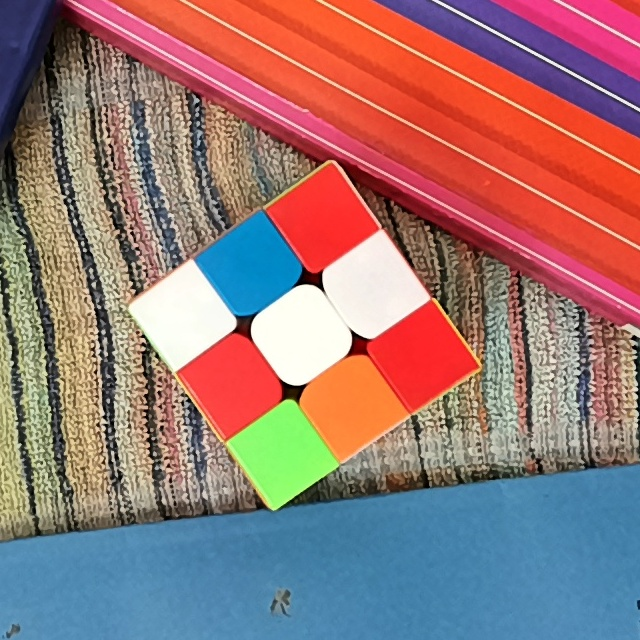tile: (204, 356, 263, 412), (294, 191, 351, 248), (323, 375, 379, 433), (397, 327, 451, 387), (251, 427, 309, 481), (222, 241, 278, 295), (153, 289, 210, 342), (273, 307, 331, 359), (345, 258, 400, 312)
